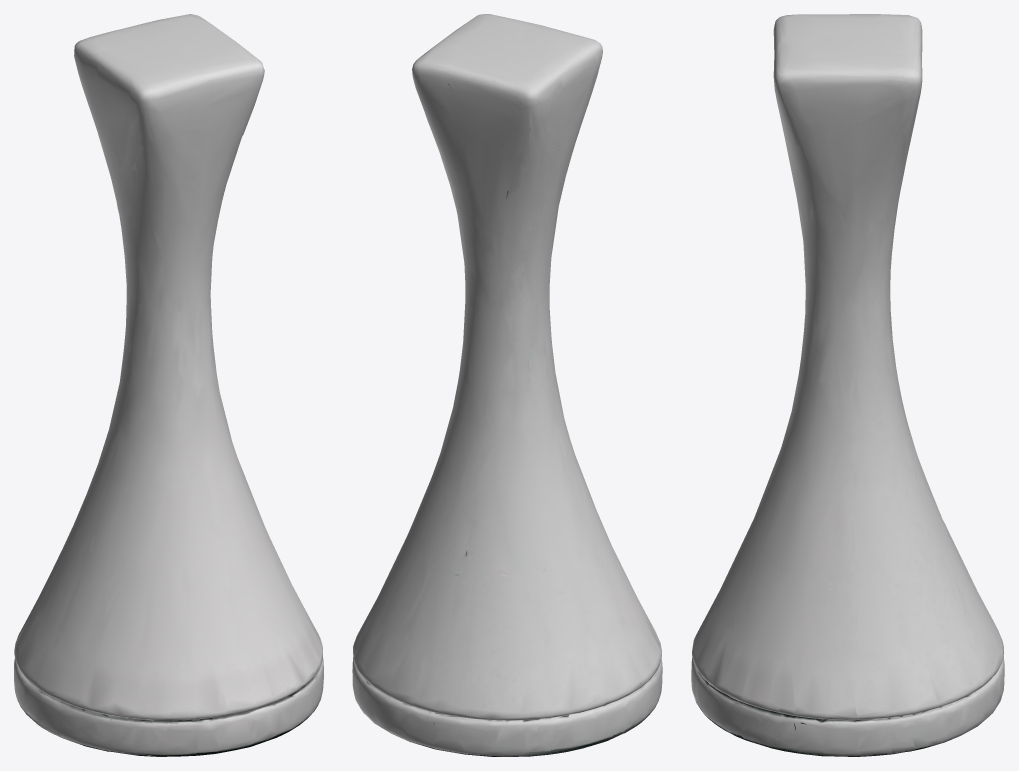
Rendered from queen-white.glb.
The picture shows the model from 3 angles, left to right: view 1: azimuth 30°, elevation 25°; view 2: azimuth 150°, elevation 25°; view 3: azimuth 270°, elevation 25°; orthographic projection.
Bounding box in the file's own units: 0.6272 × 1.45 × 0.6275.
1 material, 1 textured.
